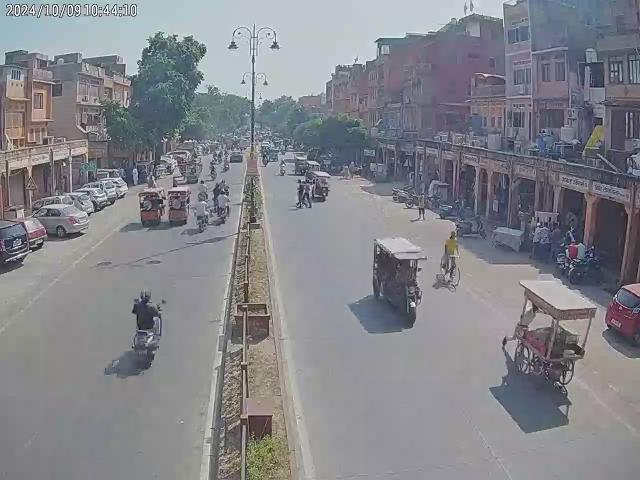auto: (370, 236, 425, 326), (138, 187, 164, 225), (168, 185, 190, 224), (312, 170, 331, 202)
bicycle-rider: (439, 231, 462, 286)
car: (0, 214, 46, 274), (606, 275, 640, 351), (28, 200, 92, 238), (96, 176, 128, 200)
helmet: (138, 288, 152, 302)
motorbike: (566, 252, 606, 286), (390, 186, 414, 204)
motorbike-rider: (217, 190, 232, 222), (196, 195, 209, 231)
person: (549, 220, 568, 247), (296, 180, 312, 208), (533, 220, 549, 245), (416, 192, 426, 220)
scooty: (454, 214, 488, 239)
scooty-rider: (131, 286, 164, 360)
vendor: (505, 276, 597, 384)
